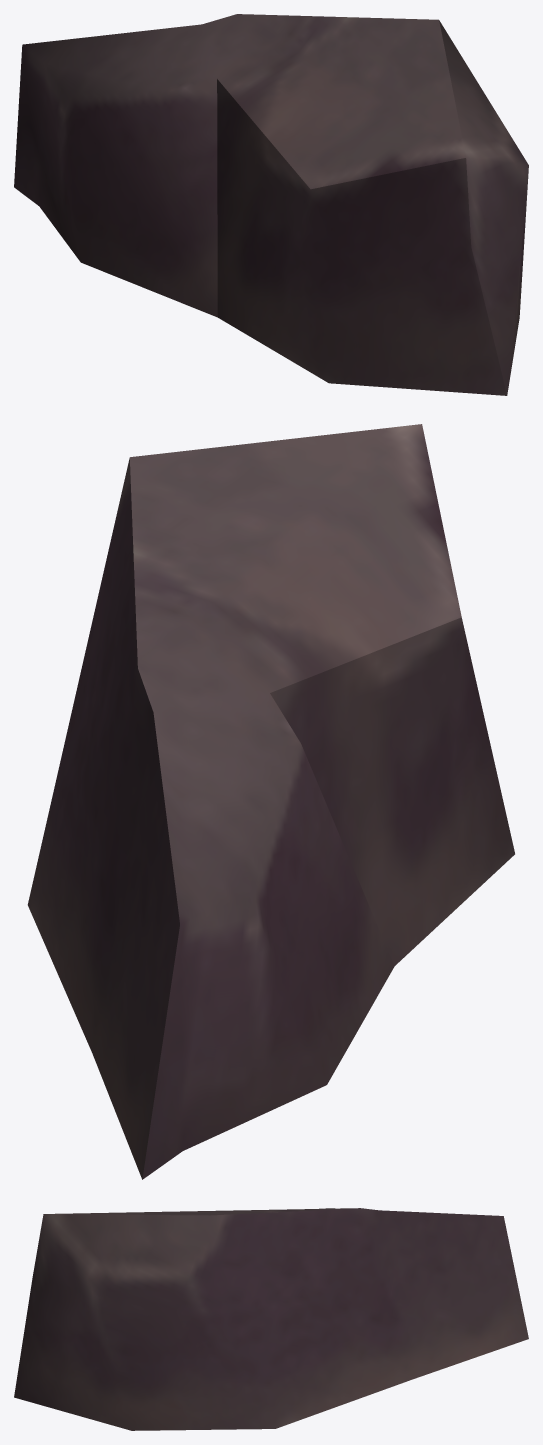
File: Boss_03.FBX
The picture shows the model from 3 angles, top to bottom: view 1: azimuth 30°, elevation 25°; view 2: azimuth 150°, elevation 25°; view 3: azimuth 270°, elevation 25°; orthographic projection. The views are drawn at different scales.
Visible parts, largest first — view 1: Boss_03; view 2: Boss_03; view 3: Boss_03.
Boxes of the visible parts, x1=… form: Boss_03: x1=14, y1=14, x2=528, y2=395; Boss_03: x1=27, y1=424, x2=514, y2=1179; Boss_03: x1=14, y1=1208, x2=528, y2=1430.
Bounding box in the file's own units: 0.8813 × 0.8259 × 1.88.
